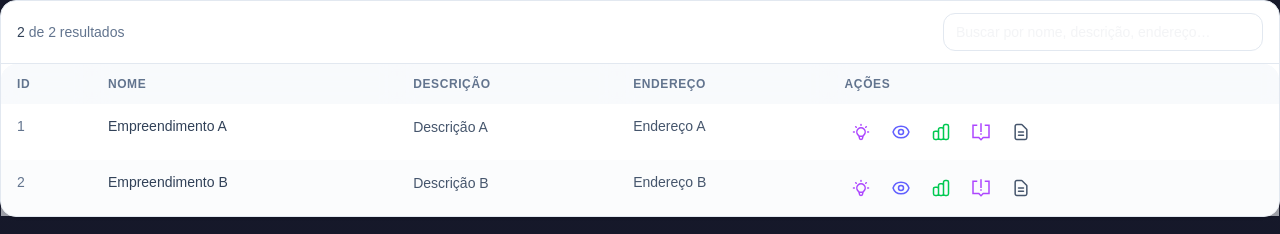
DevelopmentsTable › deve filtrar empreendimentos pela busca
Type "A" into the field with placeholder "Buscar por nome, descrição, endereço…" at (1103, 32), box [943,13,1263,51]
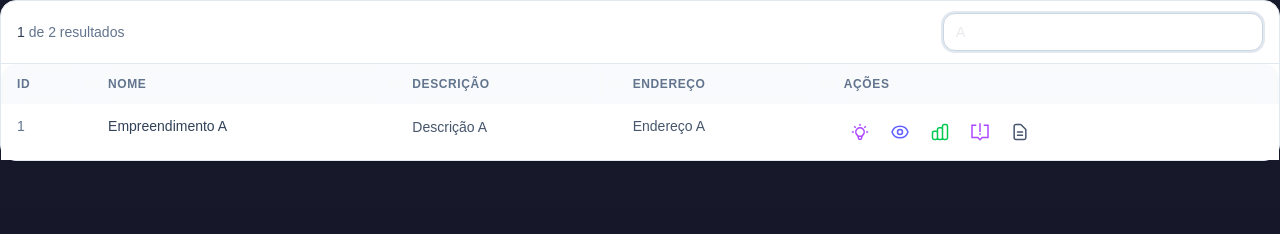
Expected: the text "Empreendimento A" is shown, [92,104,396,160]
Expected: the text "Empreendimento B" is gone
